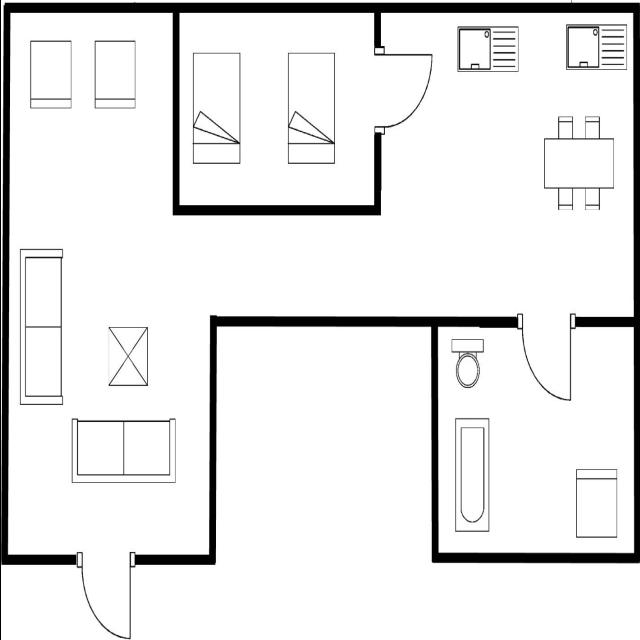bed: (188, 48, 243, 168), (284, 47, 336, 168)
coffee_table: (106, 322, 152, 390)
dining_table: (539, 109, 618, 218)
large_sink: (446, 331, 486, 392)
large_sofa: (67, 412, 179, 488), (16, 243, 66, 410)
sink: (560, 20, 629, 76), (454, 20, 520, 78)
small_sofa: (571, 462, 621, 540), (90, 34, 138, 114), (26, 34, 74, 112)
tub: (452, 411, 492, 538)
